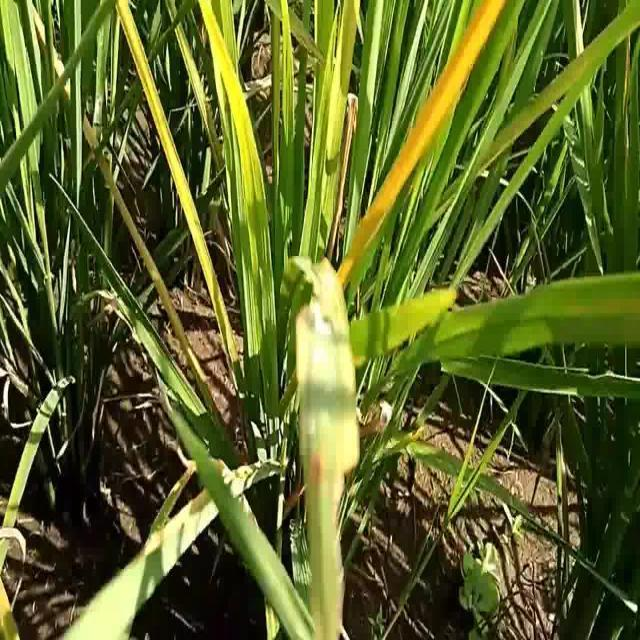Rice Tungro: (338, 4, 507, 286), (115, 3, 231, 342), (198, 2, 274, 226)
